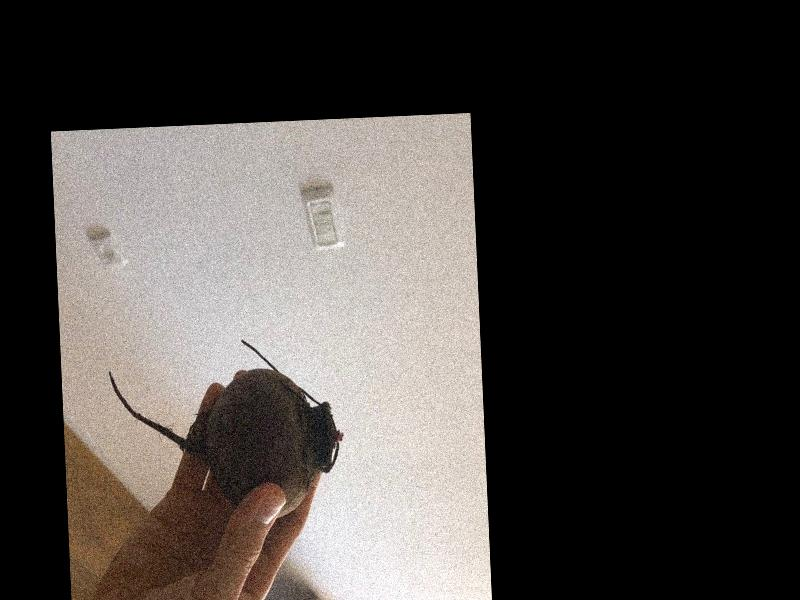Beet: (107, 333, 346, 525)
